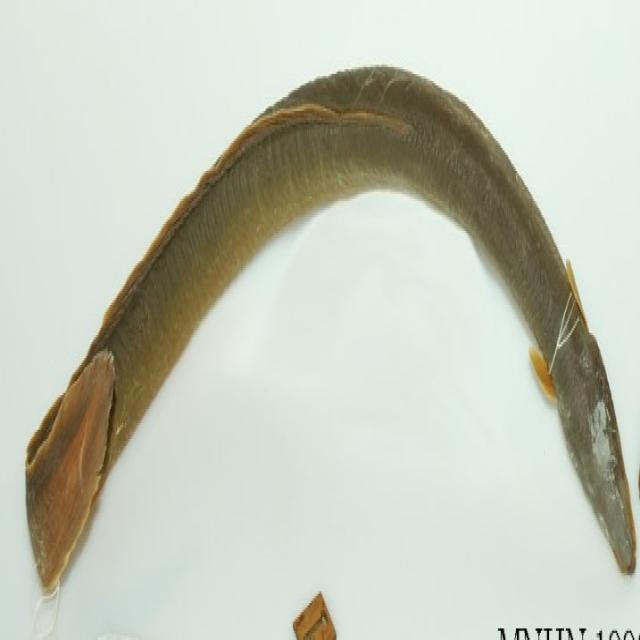Freshwater-Eel: (16, 30, 640, 598)
